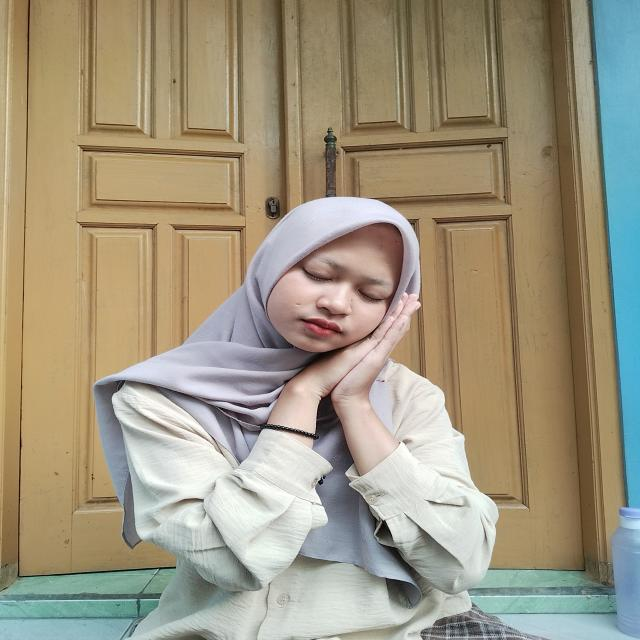tidur: (253, 284, 426, 447)
